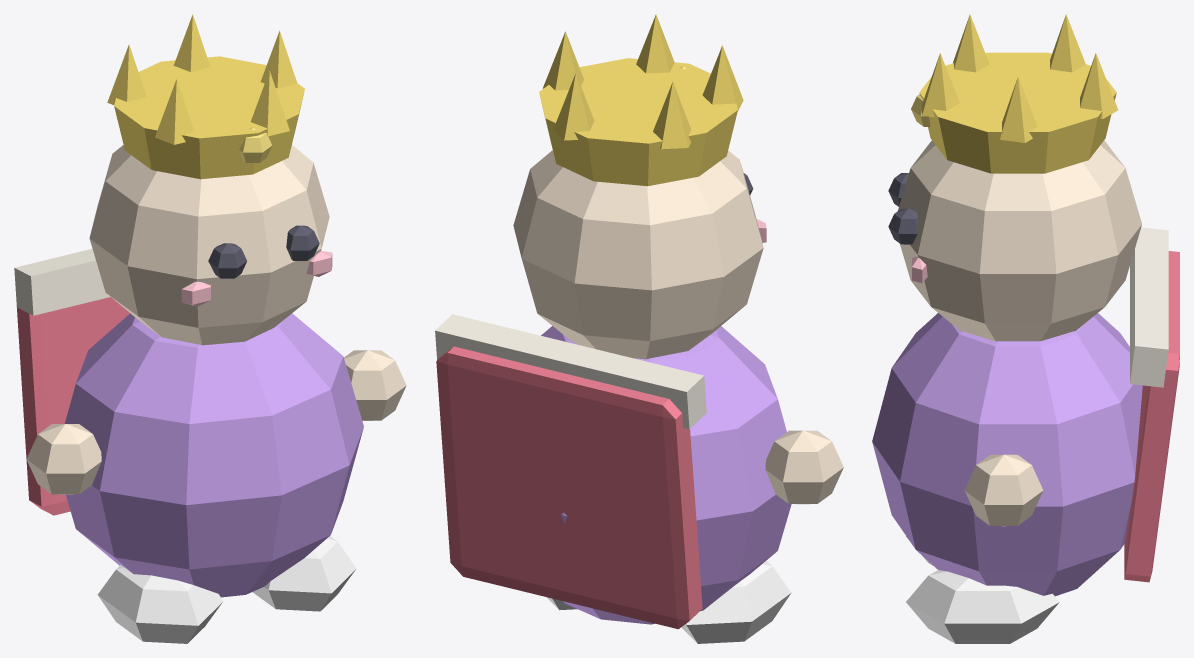
Rendered from CF_King.fbx.
The picture shows the model from 3 angles, left to right: view 1: azimuth 30°, elevation 25°; view 2: azimuth 150°, elevation 25°; view 3: azimuth 270°, elevation 25°; orthographic projection. The views are drawn at different scales.
Parts seen in each view (by area): view 1: CF_King_Body, CF_King_Head, CF_King_Cap, CF_King_Feet, CF_King_Cape, CF_King_Trim, CF_King_Eye, CF_King_Cheek, CF_King_Extra; view 2: CF_King_Cape, CF_King_Head, CF_King_Cap, CF_King_Body, CF_King_Trim, CF_King_Feet; view 3: CF_King_Body, CF_King_Head, CF_King_Cap, CF_King_Cape, CF_King_Feet, CF_King_Trim, CF_King_Eye.
Part boxes in pixels (<box>): CF_King_Body: <box>64,313,363,597</box>; CF_King_Head: <box>26,145,406,494</box>; CF_King_Cap: <box>107,14,304,179</box>; CF_King_Feet: <box>97,536,356,643</box>; CF_King_Cape: <box>17,297,129,515</box>; CF_King_Trim: <box>14,248,110,315</box>; CF_King_Eye: <box>208,225,319,278</box>; CF_King_Cheek: <box>181,251,332,306</box>; CF_King_Extra: <box>239,127,272,162</box>; CF_King_Cape: <box>436,346,702,629</box>; CF_King_Head: <box>513,150,843,504</box>; CF_King_Cap: <box>539,14,743,186</box>; CF_King_Body: <box>541,326,791,624</box>; CF_King_Trim: <box>435,314,706,429</box>; CF_King_Feet: <box>546,560,791,643</box>; CF_King_Body: <box>872,313,1142,596</box>; CF_King_Head: <box>898,140,1141,526</box>; CF_King_Cap: <box>919,14,1118,173</box>; CF_King_Cape: <box>1124,251,1179,582</box>; CF_King_Feet: <box>906,536,1059,643</box>; CF_King_Trim: <box>1130,227,1168,387</box>; CF_King_Eye: <box>888,173,917,244</box>.
Size of the model in its own units: 2.98 by 4.42 by 2.18.
